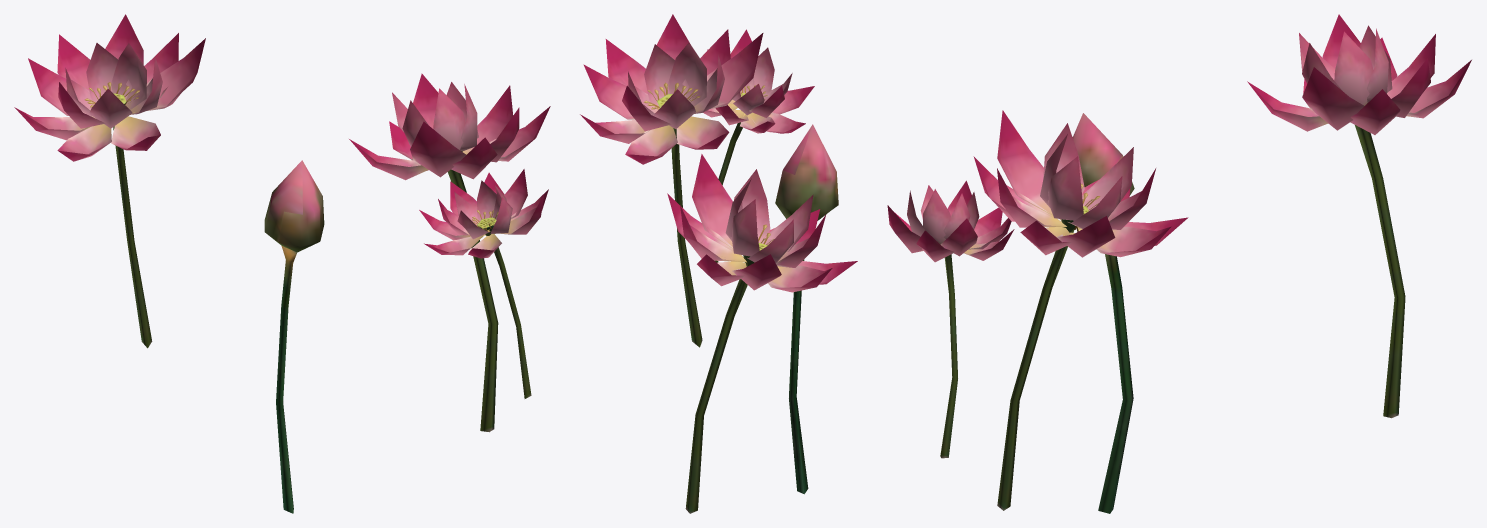
Rendered from jm_zhiwu03.FBX.
3 renders of one model, left to right at view 1: azimuth 30°, elevation 25°; view 2: azimuth 150°, elevation 25°; view 3: azimuth 270°, elevation 25°, orthographic. The views are drawn at different scales.
Visible parts, largest first — view 1: jm_zhiwu03_002, jm_zhiwu03_001; view 2: jm_zhiwu03_002, jm_zhiwu03_001; view 3: jm_zhiwu03_002, jm_zhiwu03_001.
Boxes of the visible parts, box(x1,y1,x2,y2) form: jm_zhiwu03_002: box(264, 73, 550, 513); jm_zhiwu03_001: box(14, 14, 205, 348); jm_zhiwu03_002: box(580, 14, 838, 494); jm_zhiwu03_001: box(667, 154, 857, 513); jm_zhiwu03_002: box(887, 110, 1188, 513); jm_zhiwu03_001: box(1247, 14, 1471, 418).
Bounding box in the file's own units: 0.3216 × 0.325 × 0.383.
